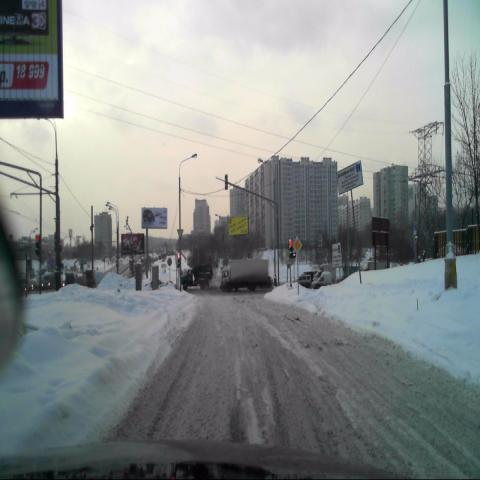2_1: (292, 236, 302, 253)
